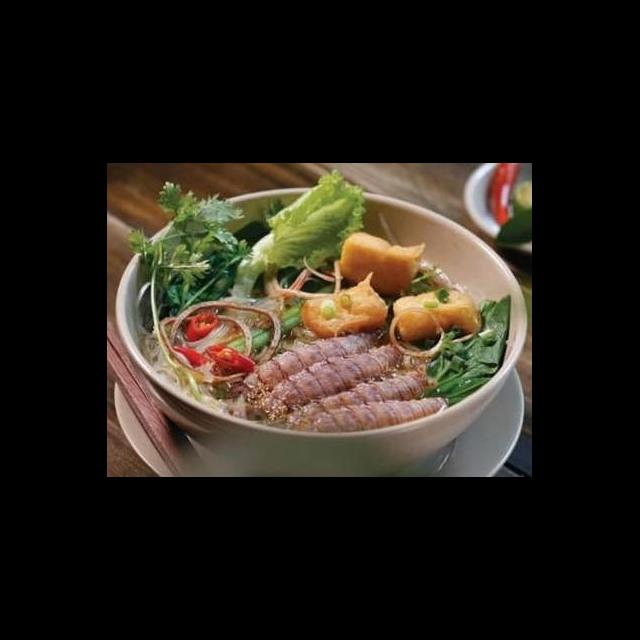dau hu: (298, 268, 392, 344), (336, 230, 428, 301), (388, 284, 486, 344)
tom tit: (238, 324, 394, 406), (256, 340, 409, 423), (272, 362, 434, 430), (284, 392, 454, 438)
